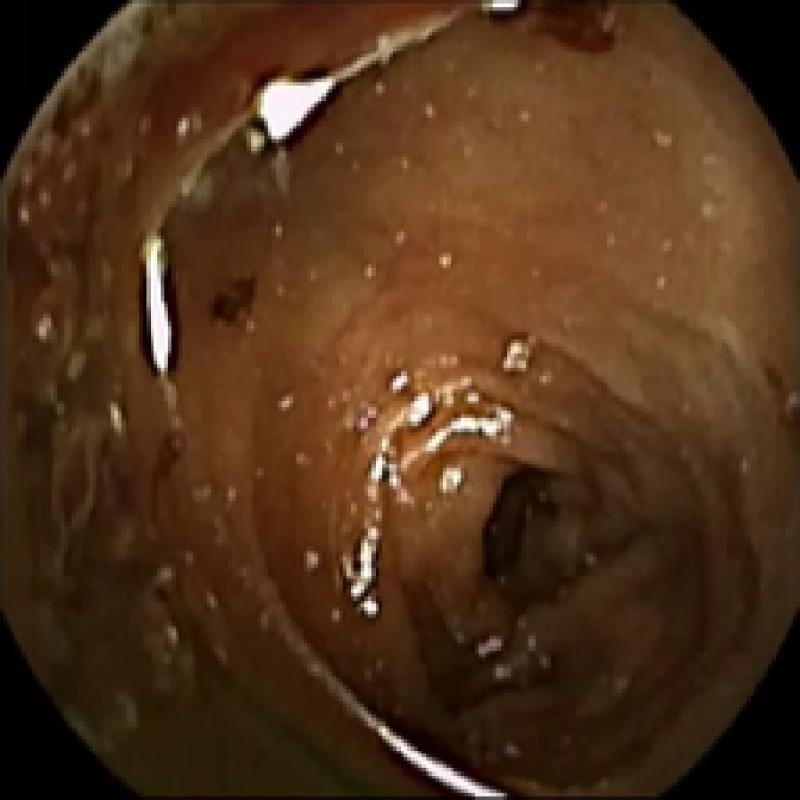bleeding: (482, 0, 632, 50), (8, 188, 53, 300), (139, 439, 178, 524), (209, 269, 259, 327)
